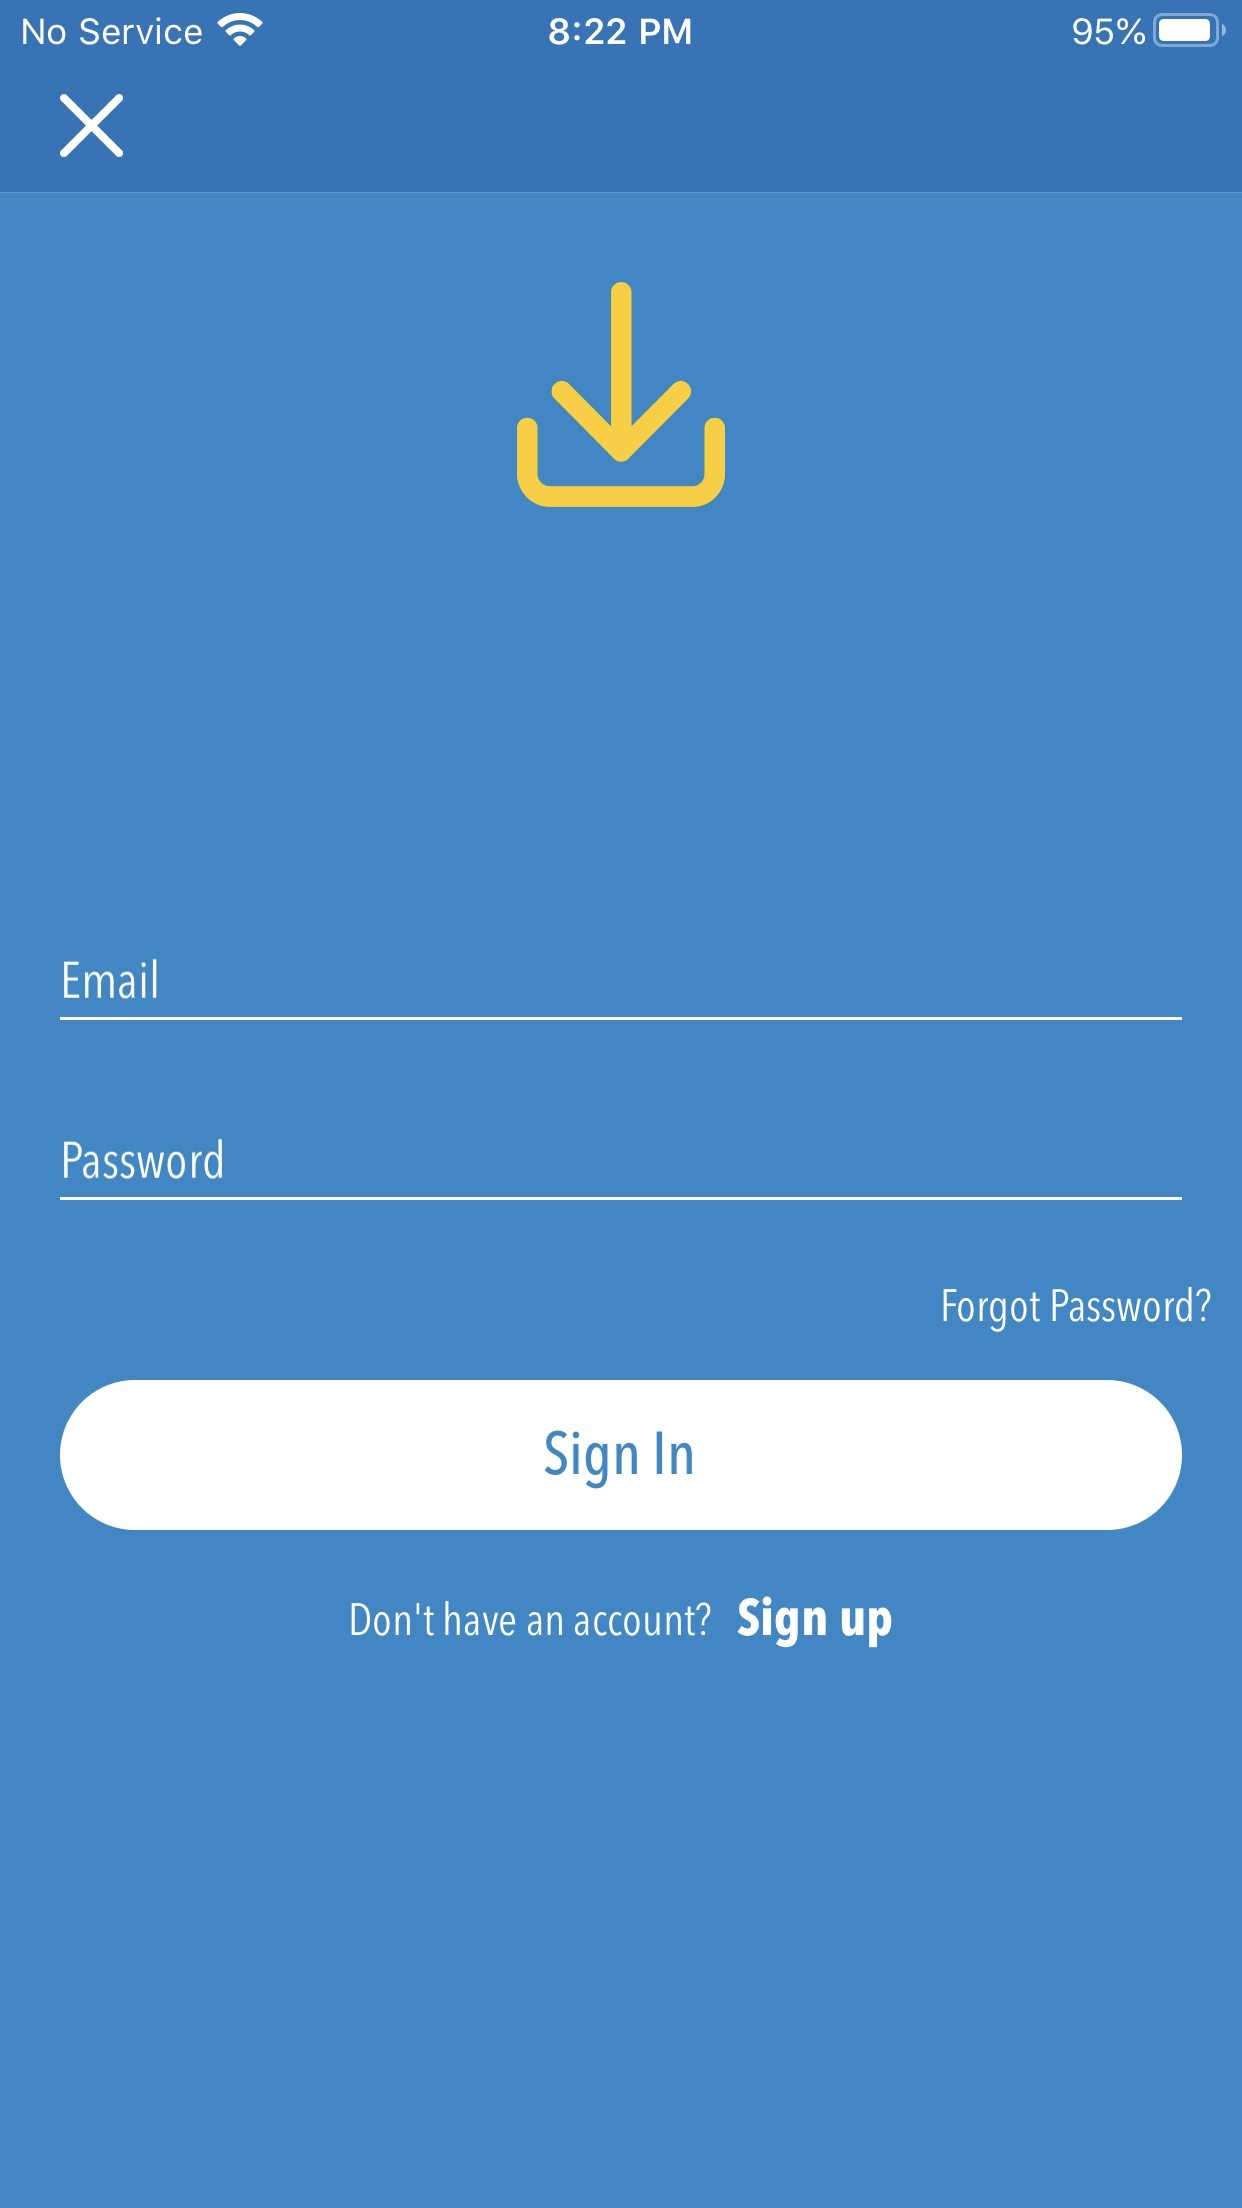EditText: (61, 1139, 1181, 1201), (61, 958, 1181, 1021)
Icon: (61, 96, 124, 158)
Image: (516, 284, 726, 510)
Text: (350, 1600, 713, 1636), (943, 1286, 1212, 1333), (737, 1595, 892, 1648), (64, 1140, 224, 1180), (64, 958, 158, 999)
TextButton: (61, 1380, 1183, 1532)
UpperTaskBar: (2, 2, 1242, 49)
